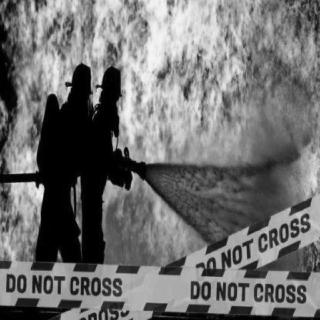Fire: (119, 103, 319, 269)
